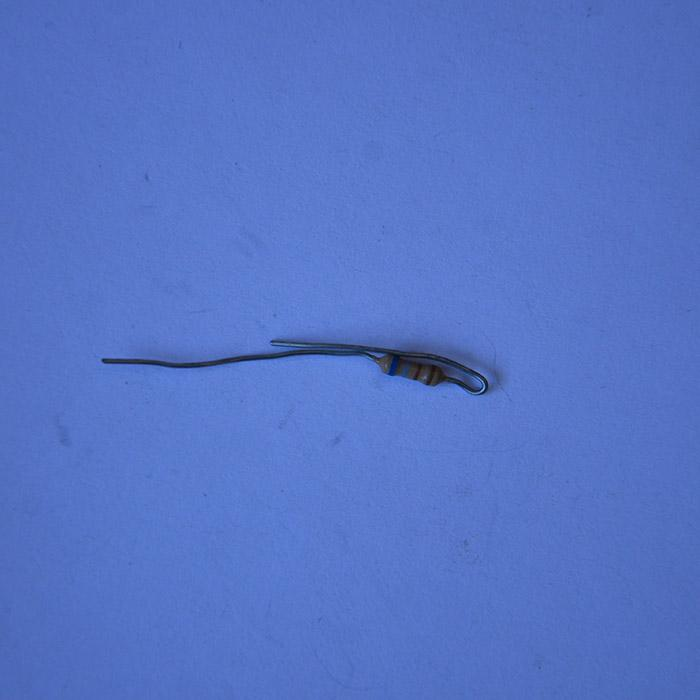resistor: (377, 352, 456, 388)
